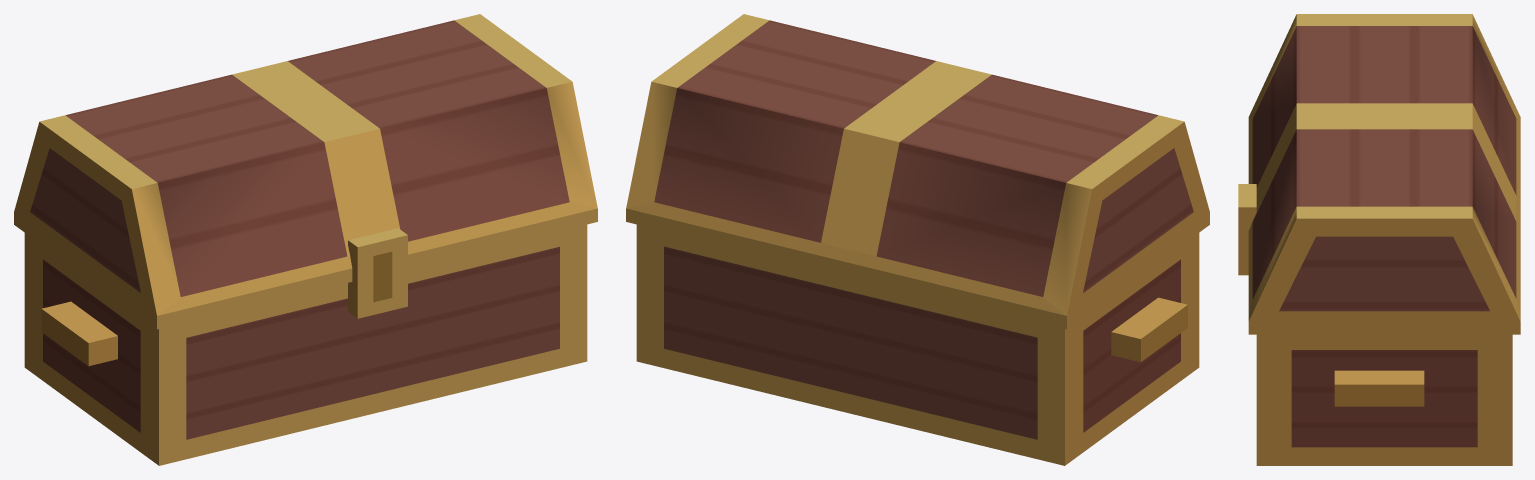
Rendered from SD_Prop_Chest_Mimic_01.fbx.
3 views of the same model, side by side, from view 1: azimuth 30°, elevation 25°; view 2: azimuth 150°, elevation 25°; view 3: azimuth 270°, elevation 25° (orthographic). The views are drawn at different scales.
Visible parts, largest first — view 1: Chest_Lid, SD_Prop_Chest_Mimic_01; view 2: Chest_Lid, SD_Prop_Chest_Mimic_01; view 3: Chest_Lid, SD_Prop_Chest_Mimic_01.
Part boxes in pixels (x1=…): Chest_Lid: x1=14, y1=14, x2=597, y2=329; SD_Prop_Chest_Mimic_01: x1=24, y1=224, x2=587, y2=465; Chest_Lid: x1=626, y1=14, x2=1209, y2=329; SD_Prop_Chest_Mimic_01: x1=636, y1=224, x2=1199, y2=465; Chest_Lid: x1=1238, y1=14, x2=1520, y2=334; SD_Prop_Chest_Mimic_01: x1=1256, y1=334, x2=1512, y2=465.
Size of the model in its own units: 2.09 by 1.08 by 1.1.
